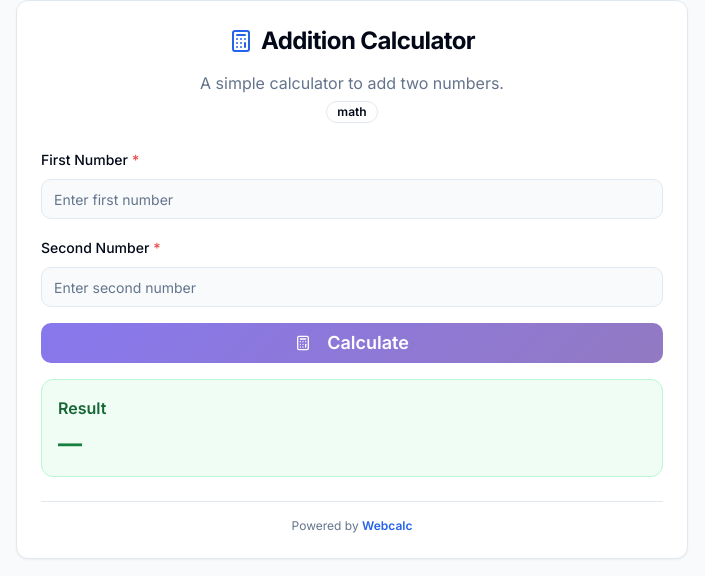
Test: Three Main Calculators Validation › Addition Calculator › calculates addition correctly
Type "10" into the number field with test id "input-number1".
click(352, 199); type("10")  # box [41, 179, 663, 219]
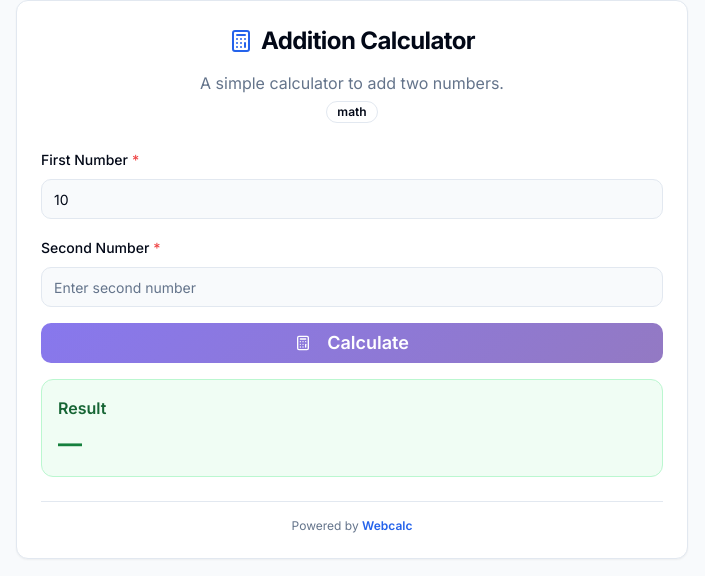
Type "20" into the number field with test id "input-number2".
click(352, 287); type("20")  # box [41, 267, 663, 307]
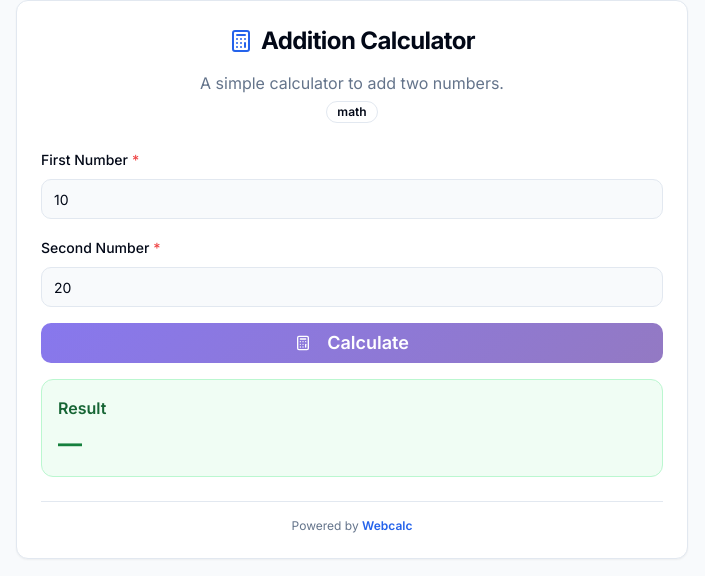
Click the button with test id "button-calculate".
click(352, 343)  # box [41, 323, 663, 363]
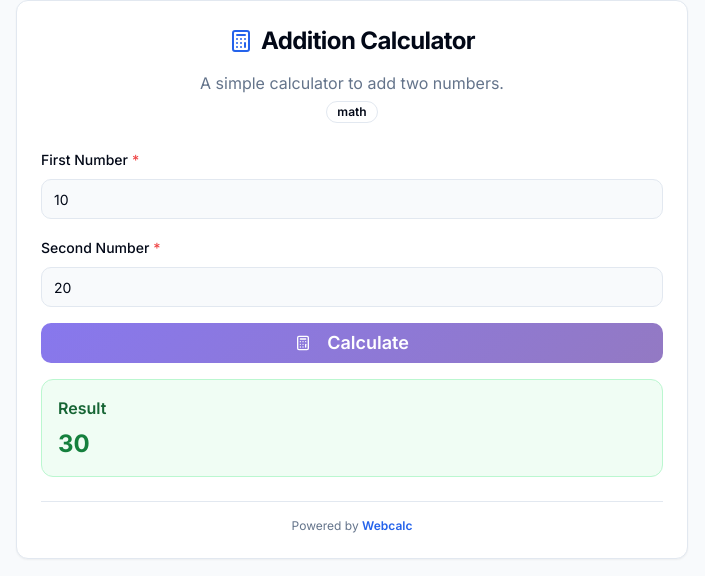
Now the text with test id "text-result" reads "30", box [58, 429, 90, 458]
